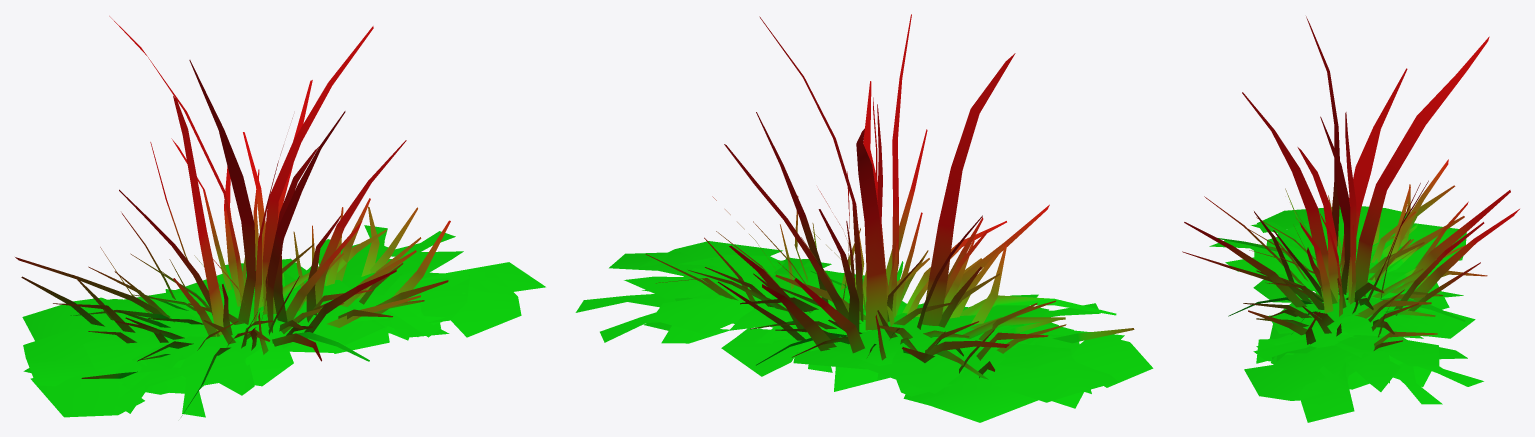
Rendered from Wild Grass_LOD2_Var7_vczndjqja.fbx.
3 renders of one model, left to right at view 1: azimuth 30°, elevation 25°; view 2: azimuth 150°, elevation 25°; view 3: azimuth 270°, elevation 25°, orthographic. The views are drawn at different scales.
Visible parts, largest first — view 1: _lajf_Var7_LOD2; view 2: _lajf_Var7_LOD2; view 3: _lajf_Var7_LOD2.
Boxes of the visible parts, x1,y1,x2,y2 form: _lajf_Var7_LOD2: (15,16,545,417); _lajf_Var7_LOD2: (575,14,1153,422); _lajf_Var7_LOD2: (1182,16,1519,422).
Bounding box in the file's own units: 104 × 57.28 × 70.02.
